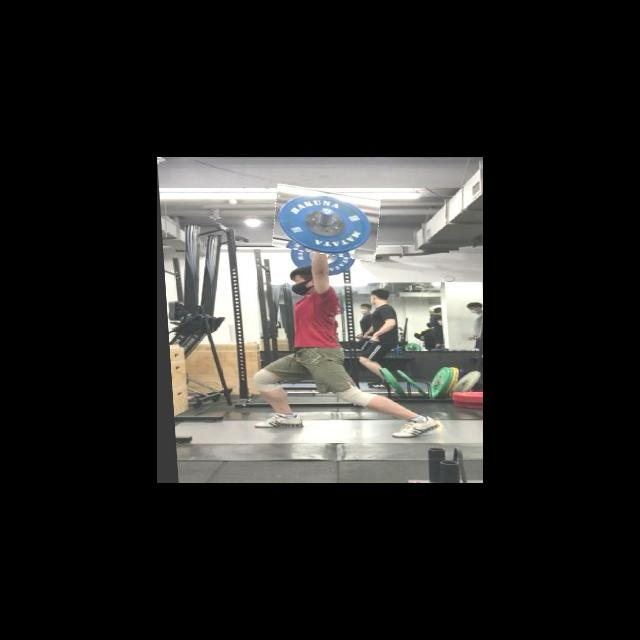barbell: (270, 187, 381, 258)
